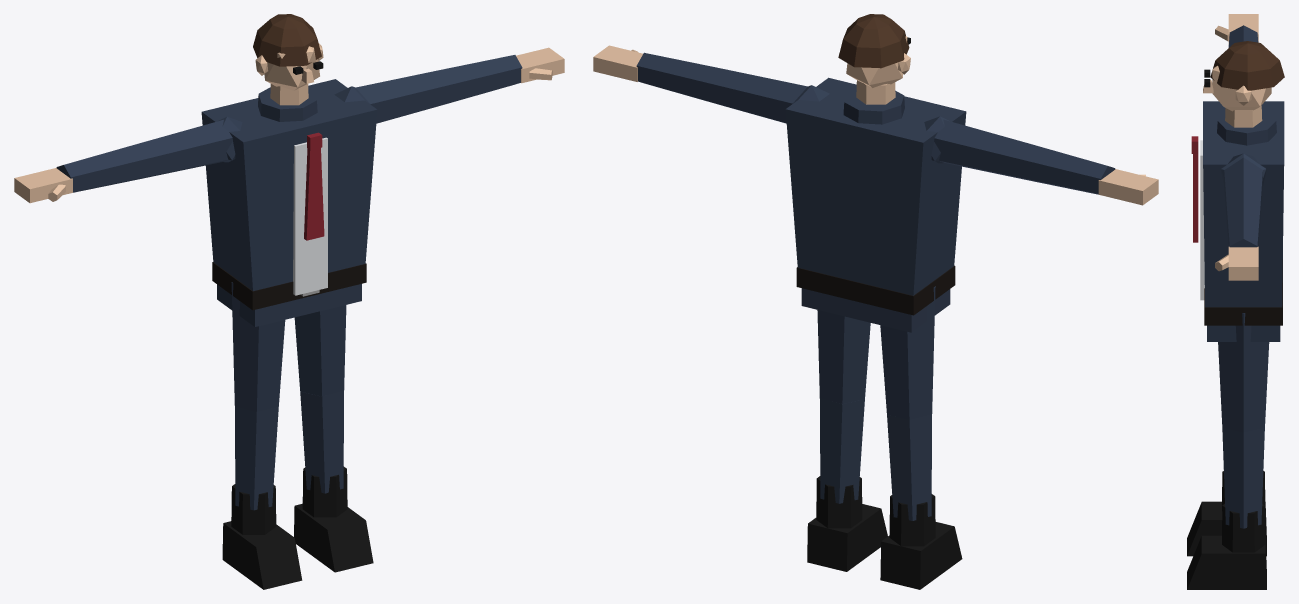
Rendered from Civ_Office.glb.
The picture shows the model from 3 angles, left to right: view 1: azimuth 30°, elevation 25°; view 2: azimuth 150°, elevation 25°; view 3: azimuth 270°, elevation 25°; orthographic projection. The views are drawn at different scales.
Parts seen in each view (by area): view 1: Civ_Office; view 2: Civ_Office; view 3: Civ_Office.
Boxes of the visible parts, bbox=[...] form: Civ_Office: bbox=[14, 14, 564, 589]; Civ_Office: bbox=[593, 14, 1158, 589]; Civ_Office: bbox=[1187, 14, 1284, 589].
Bounding box in the file's own units: 1.8 × 1.73 × 0.294.
